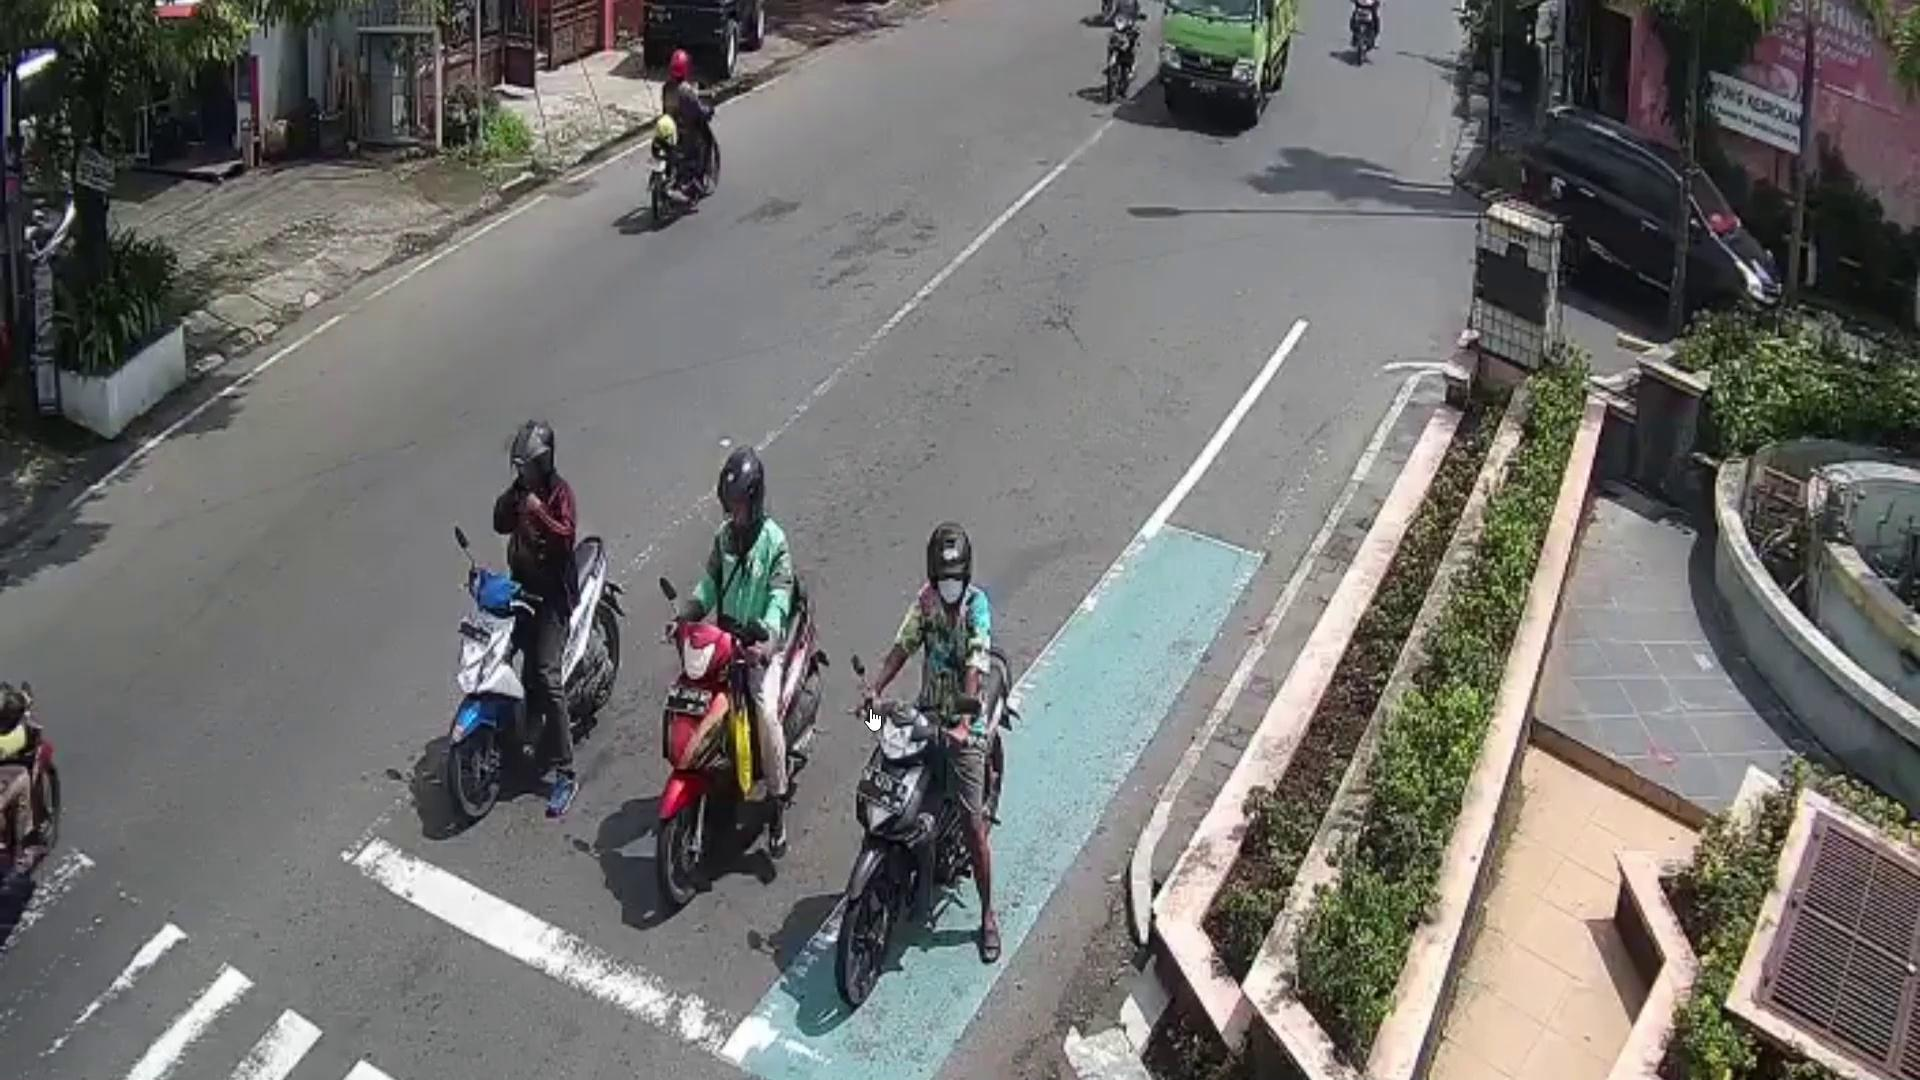car: (1522, 102, 1783, 332)
motorbike: (844, 650, 1023, 1006), (647, 576, 820, 911), (446, 535, 625, 823), (650, 103, 719, 228)
truck: (1160, 0, 1292, 127)
